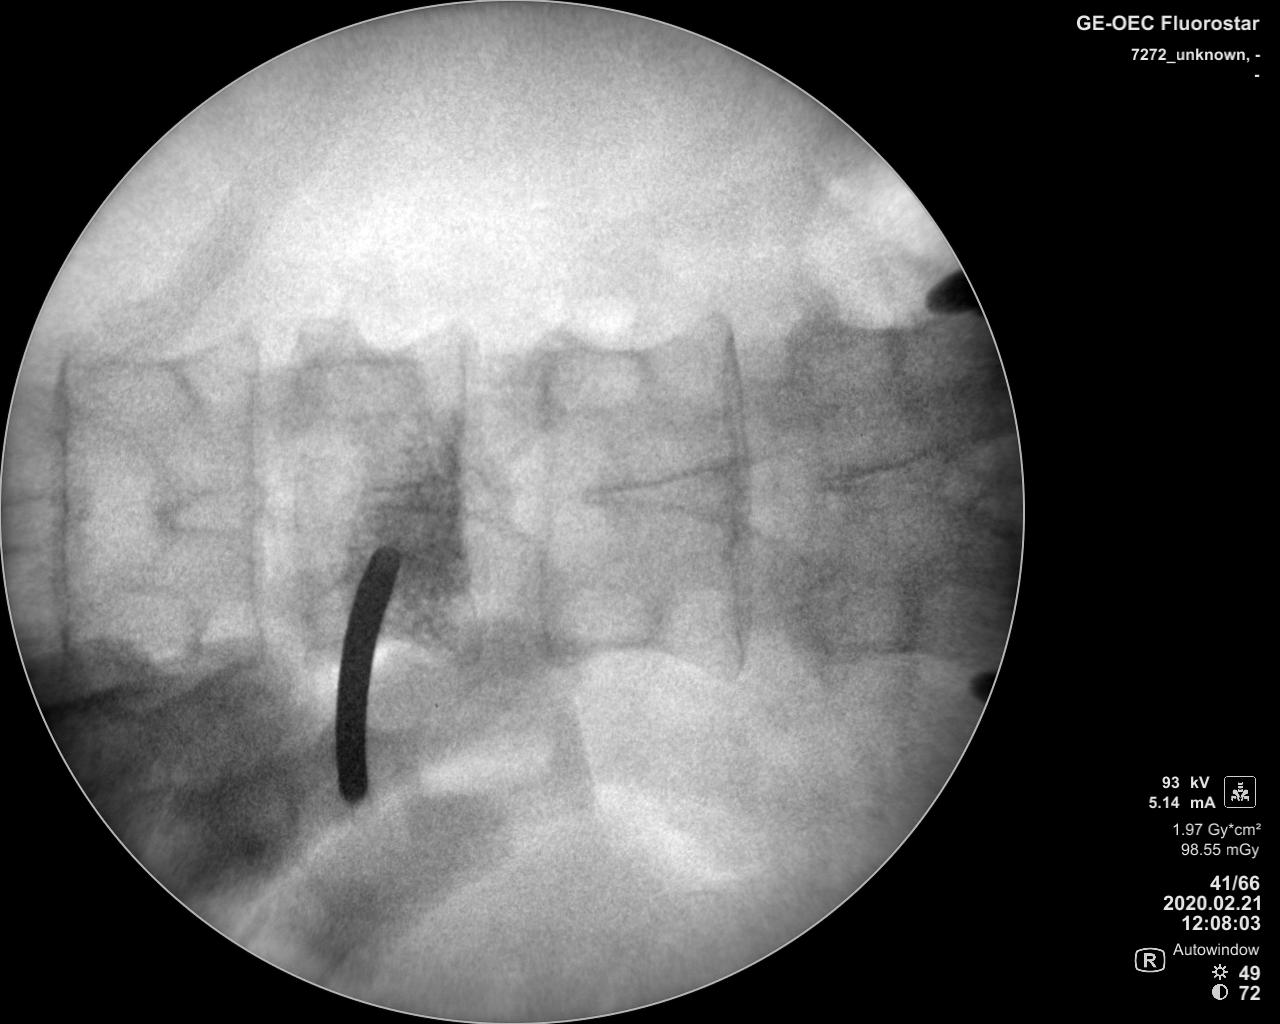eyes: (71, 580, 203, 666), (802, 569, 917, 664), (296, 341, 421, 425), (779, 319, 906, 402), (84, 351, 206, 437), (550, 581, 662, 658), (543, 341, 654, 417)
line: (440, 285, 495, 665), (713, 299, 755, 692), (528, 299, 562, 674), (47, 344, 82, 680), (243, 315, 273, 673)
nose: (571, 451, 763, 529), (811, 435, 982, 510), (347, 462, 497, 519), (145, 474, 278, 536)
